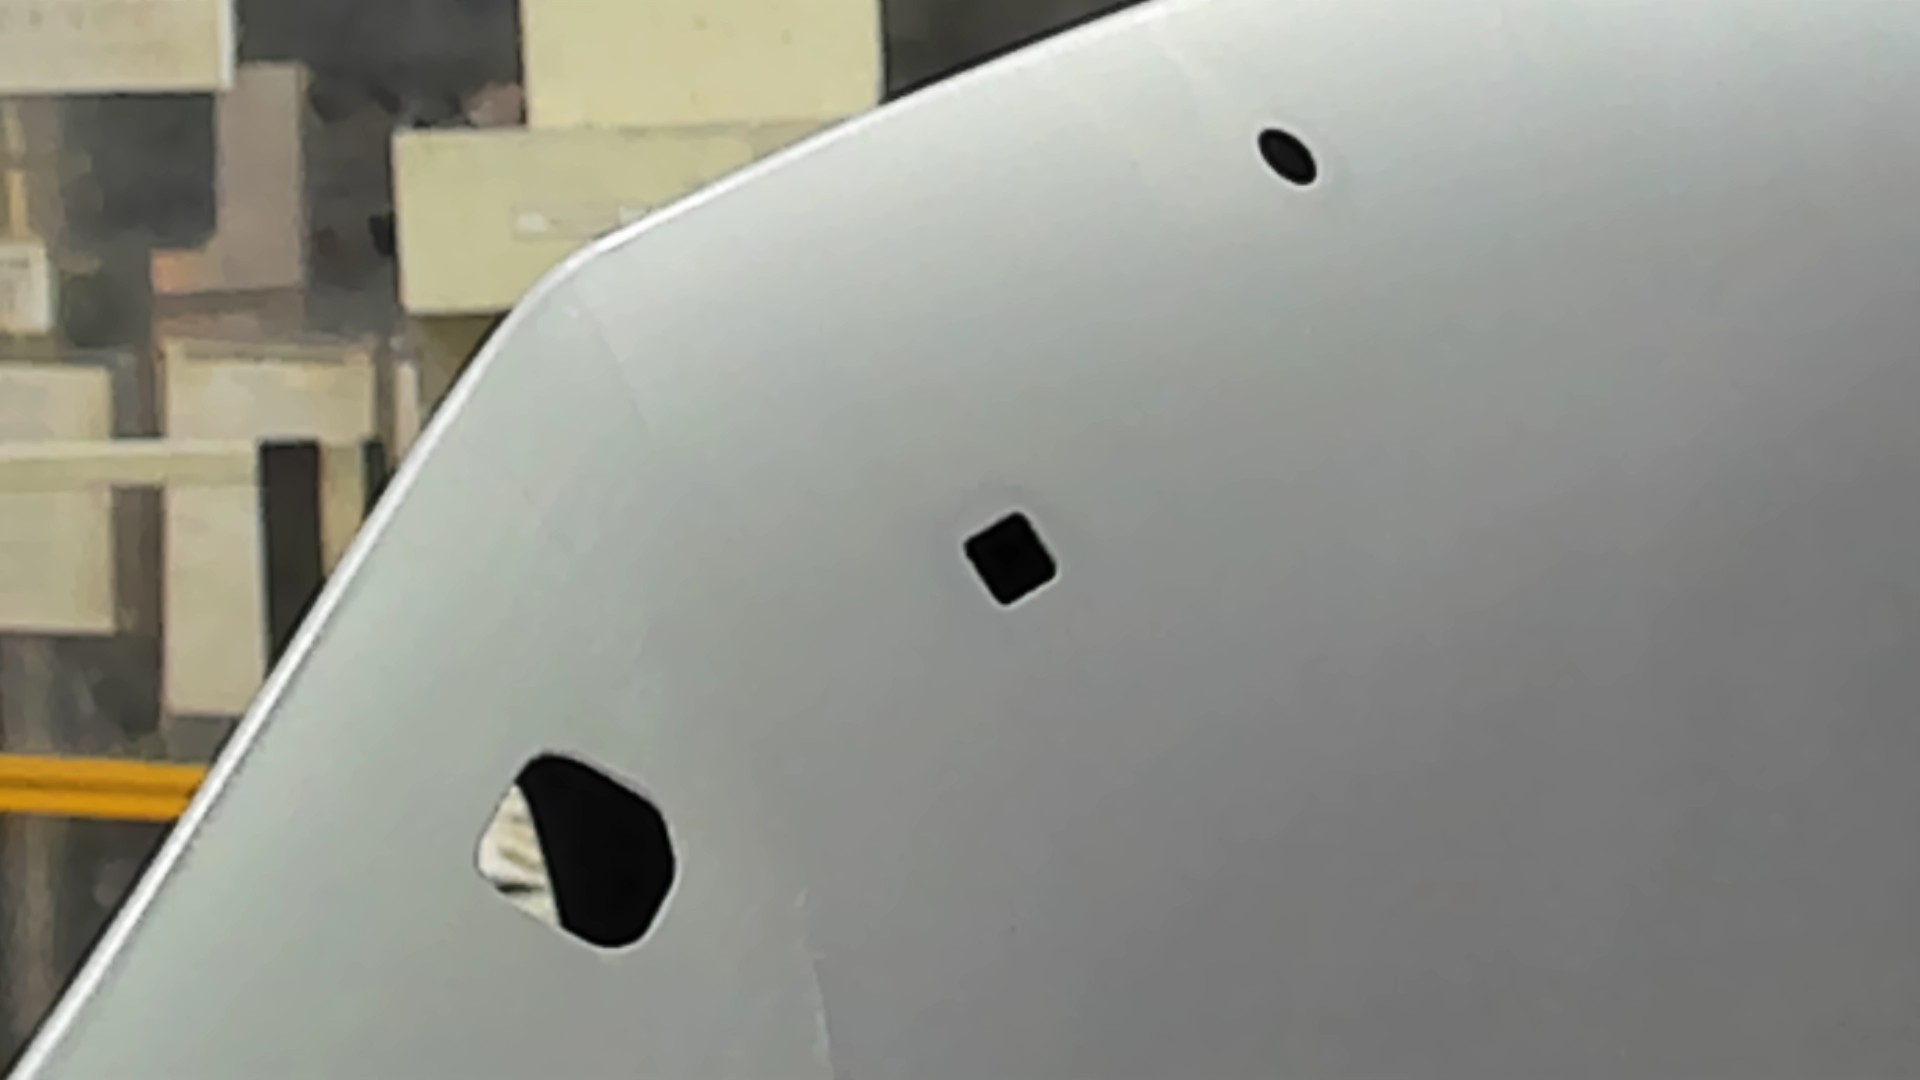capo: (1065, 200, 1920, 1080)
chico: (1250, 120, 1325, 193)
grande: (468, 746, 686, 957)
mediano: (957, 502, 1065, 615)
